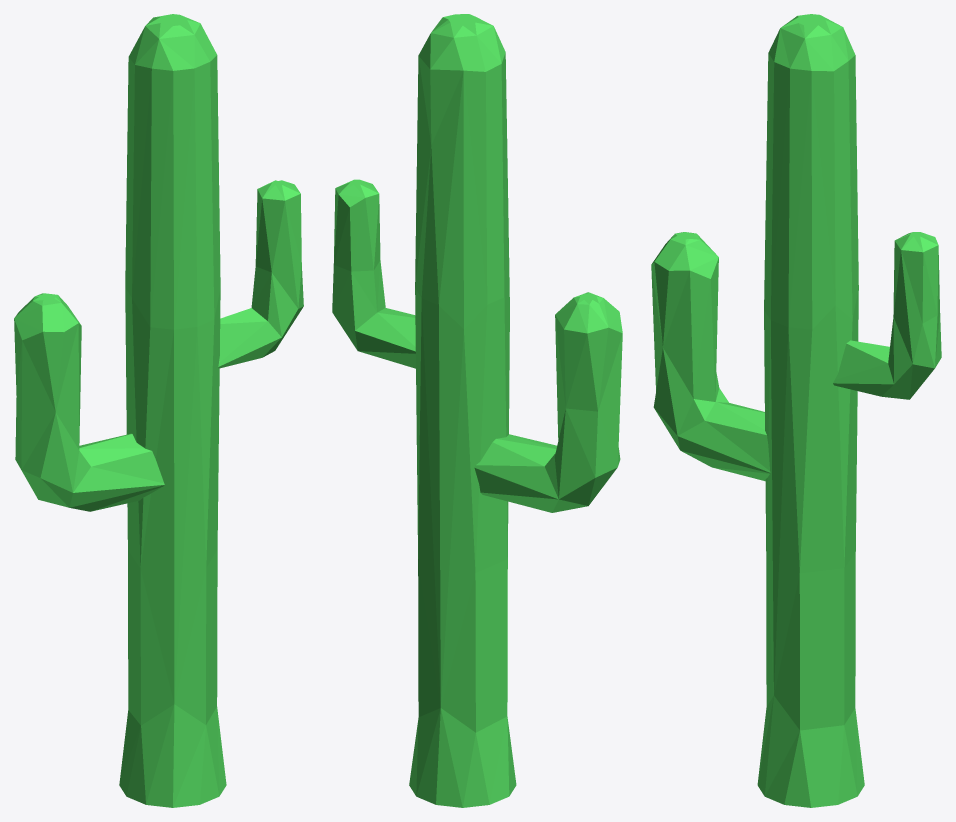
File: cactus1.fbx
3 renders of one model, left to right at view 1: azimuth 30°, elevation 25°; view 2: azimuth 150°, elevation 25°; view 3: azimuth 330°, elevation 25°, orthographic.
Parts seen in each view (by area): view 1: cactus1; view 2: cactus1; view 3: cactus1.
Part boxes in pixels (box(x1,y1,x2,y2)): cactus1: box(14, 14, 303, 807); cactus1: box(332, 14, 622, 807); cactus1: box(651, 14, 941, 807).
Size of the model in its own units: 1.01 by 2.62 by 0.3327.
